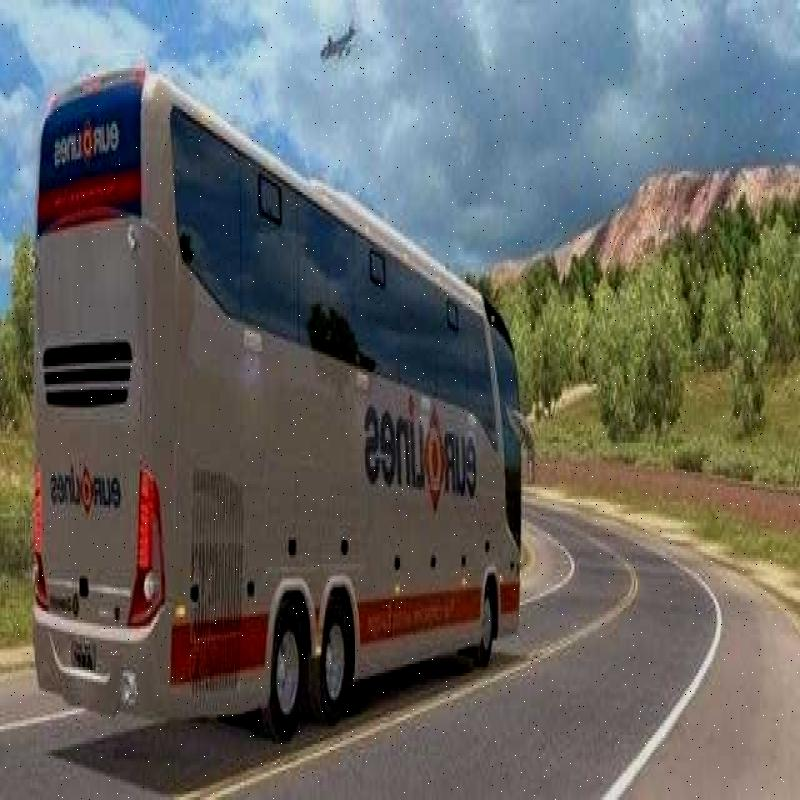bus: (13, 45, 543, 755)
